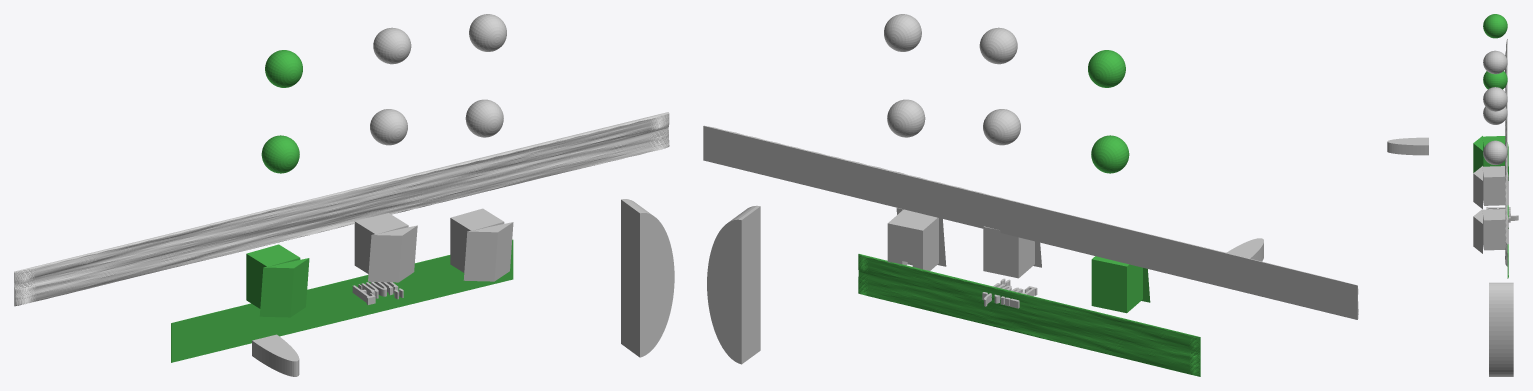
Rendered from tinker.obj.
3 views of the same model, side by side, from view 1: azimuth 30°, elevation 25°; view 2: azimuth 150°, elevation 25°; view 3: azimuth 270°, elevation 25° (orthographic). The views are drawn at different scales.
Visible parts, largest first — view 1: group_0_10988977, group_0_4634441, group_0_7720667, group_0_15277357, group_0_16768282; view 2: group_0_10988977, group_0_4634441, group_0_7720667, group_0_15277357, group_0_16768282; view 3: group_0_7720667, group_0_15277357, group_0_16768282, group_0_4634441, group_0_10988977.
Part boxes in pixels (<box>): group_0_10988977: <box>14,112,669,306</box>; group_0_4634441: <box>171,50,513,362</box>; group_0_7720667: <box>252,199,674,376</box>; group_0_15277357: <box>352,14,513,304</box>; group_0_16768282: <box>354,27,417,282</box>; group_0_10988977: <box>703,125,1358,319</box>; group_0_4634441: <box>858,50,1200,376</box>; group_0_7720667: <box>707,205,1263,364</box>; group_0_15277357: <box>884,14,1037,308</box>; group_0_16768282: <box>979,27,1041,278</box>; group_0_7720667: <box>1387,137,1513,376</box>; group_0_15277357: <box>1473,87,1518,253</box>; group_0_16768282: <box>1473,50,1508,208</box>; group_0_4634441: <box>1473,14,1508,278</box>; group_0_10988977: <box>1504,39,1507,266</box>.
Bounding box in the file's own units: 396 × 224 × 107.
